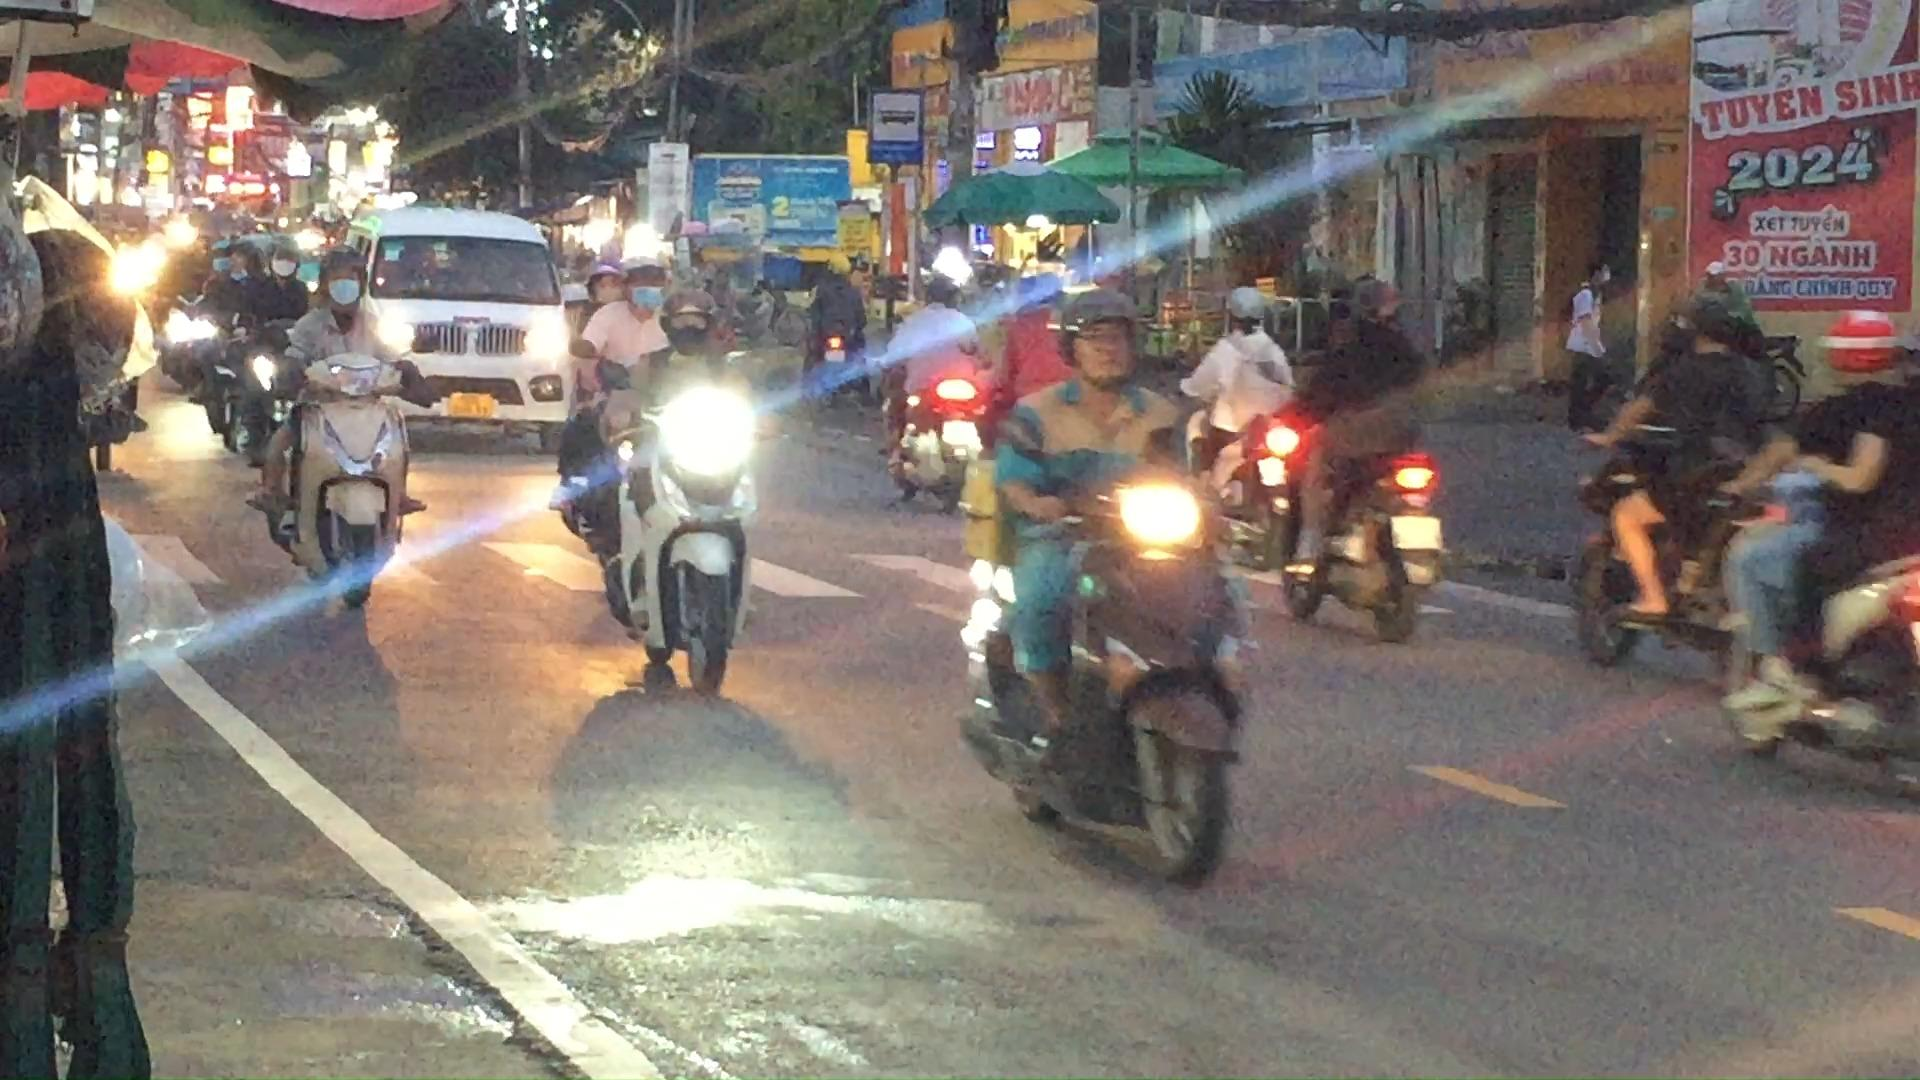bien_so: (1388, 513, 1446, 552), (449, 390, 497, 422), (941, 419, 979, 447)
